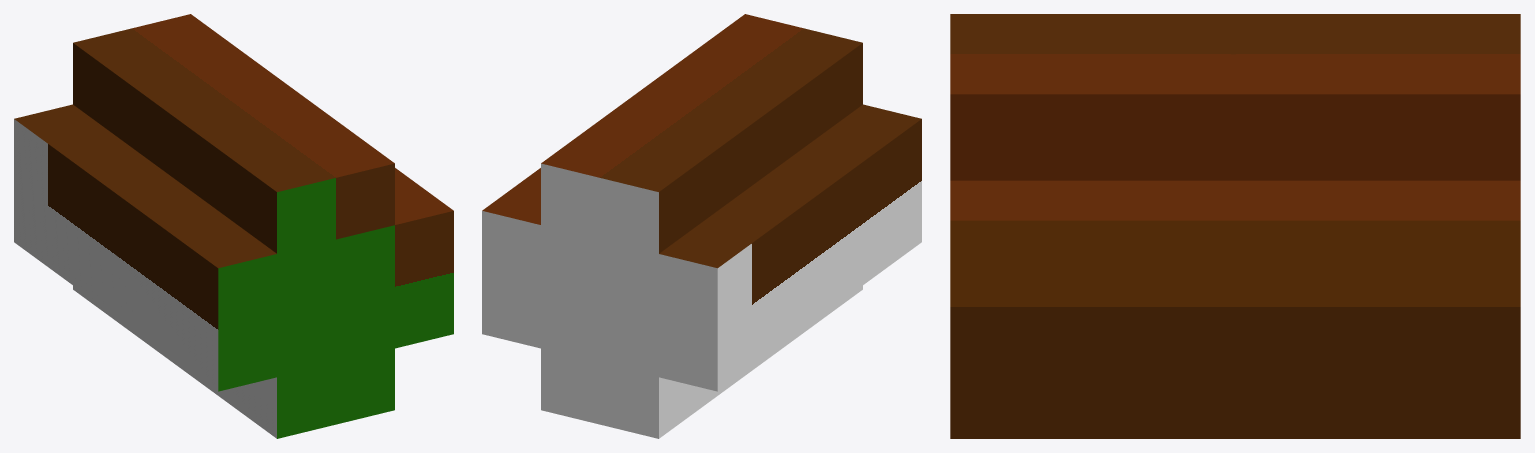
The model's file is block_38.fbx.
3 renders of one model, left to right at view 1: azimuth 30°, elevation 25°; view 2: azimuth 150°, elevation 25°; view 3: azimuth 270°, elevation 25°, orthographic. The views are drawn at different scales.
Visible parts, largest first — view 1: Box; view 2: Box; view 3: Box.
Boxes of the visible parts, x1,y1,x2,y2 form: Box: (14, 14, 453, 438); Box: (482, 14, 921, 438); Box: (950, 14, 1520, 438).
Size of the model in its own units: 4 by 6 by 4.
Materials: 1 (1 with a texture image).
